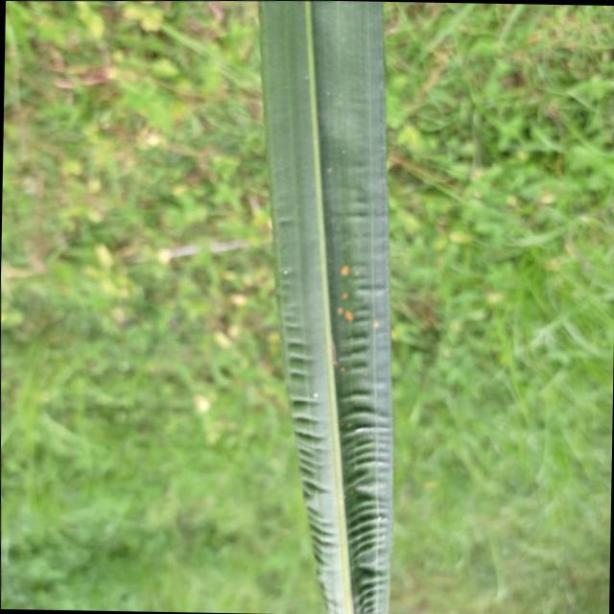Boron: (258, 1, 393, 614)
